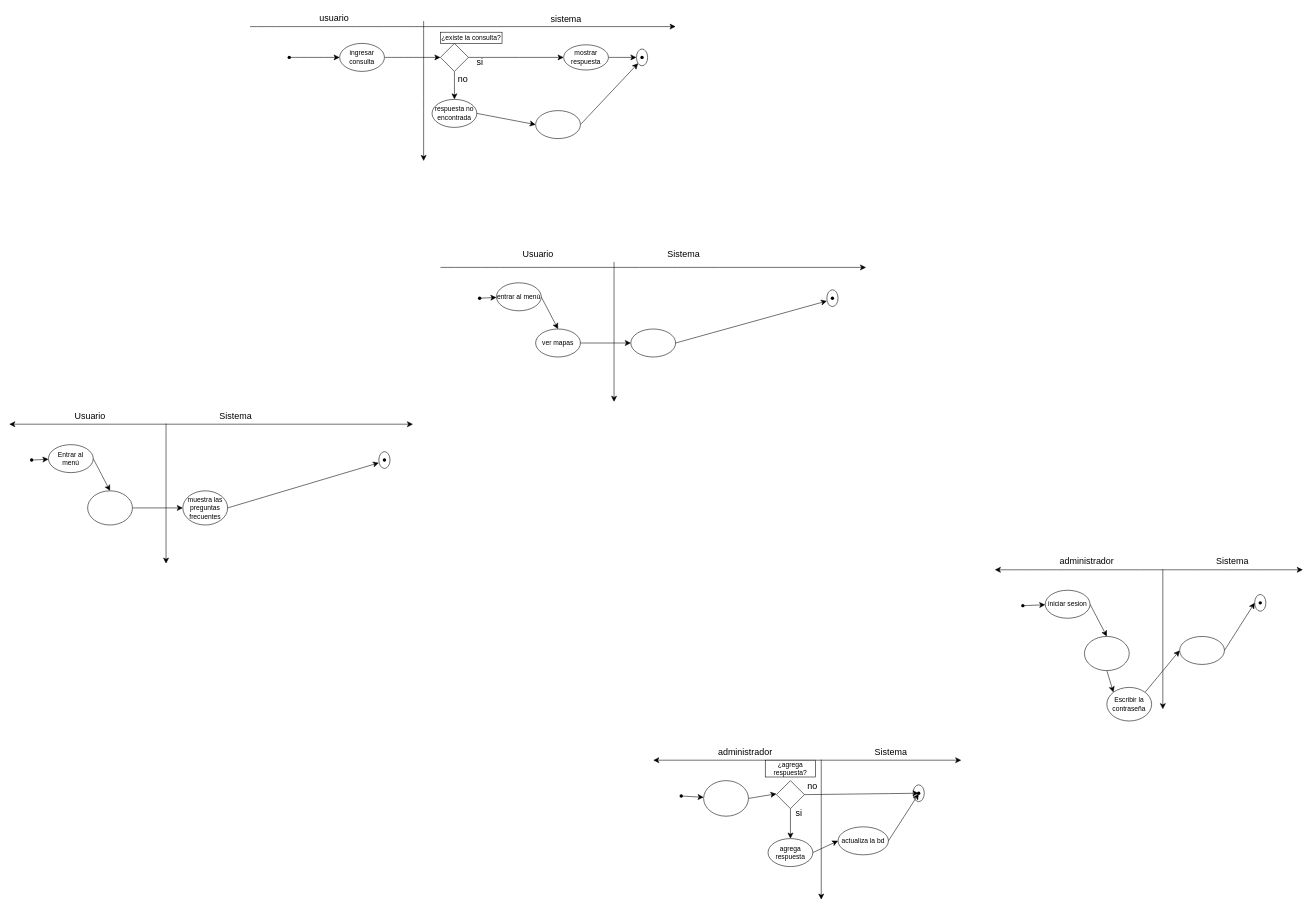
The diagram is 1312 pixels wide and 909 high, and some of its shapes have lost their labels. The shapes that lost their labels are listed below. From the top down, each one's box as (x1, y1, x2, y2) in pixels, then its label:
(535, 110, 580, 139): actualiza bd
(630, 328, 676, 357): muestra mapa
(87, 490, 132, 525): ver preguntas frecuentes
(1084, 636, 1129, 671): Escribr el nombre del usuario
(1179, 636, 1224, 664): valida datos
(703, 780, 748, 816): consultar pregunta sin respuesta
